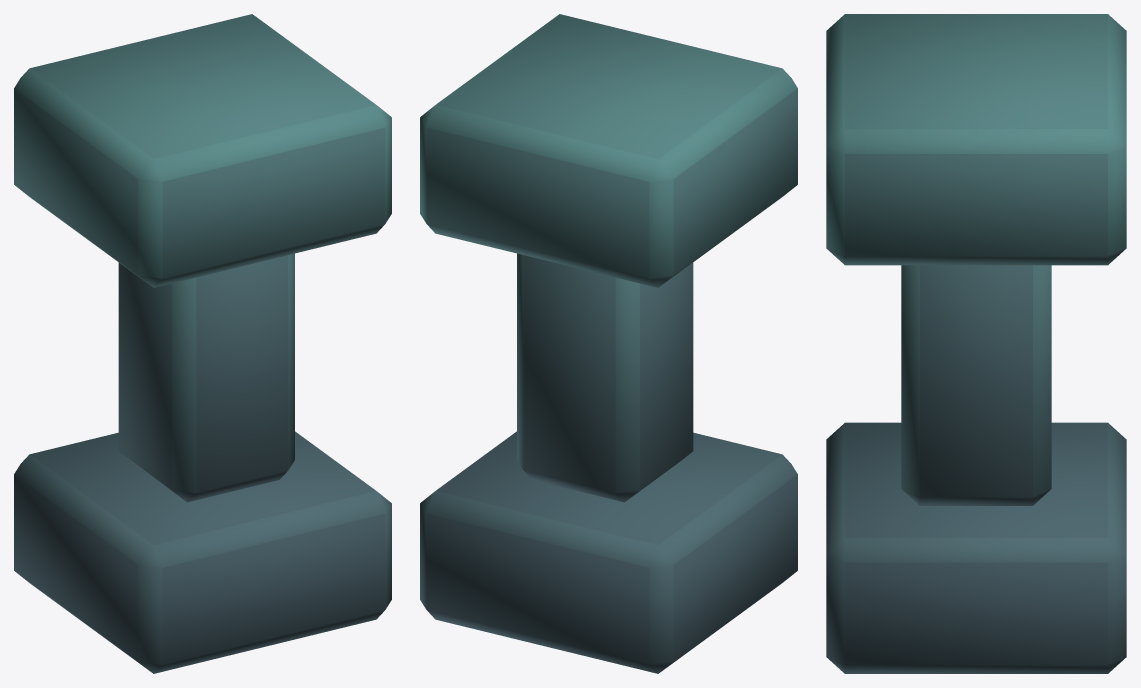
The model's file is fence_01_half_hue_1.fbx.
The picture shows the model from 3 angles, left to right: view 1: azimuth 30°, elevation 25°; view 2: azimuth 150°, elevation 25°; view 3: azimuth 270°, elevation 25°; orthographic projection. The views are drawn at different scales.
Parts seen in each view (by area): view 1: fence_01_half_hue_1; view 2: fence_01_half_hue_1; view 3: fence_01_half_hue_1.
Part boxes in pixels (<box>): fence_01_half_hue_1: <box>14,14,391,673</box>; fence_01_half_hue_1: <box>420,14,797,673</box>; fence_01_half_hue_1: <box>826,14,1126,673</box>.
Bounding box in the file's own units: 51.56 × 100 × 50.
